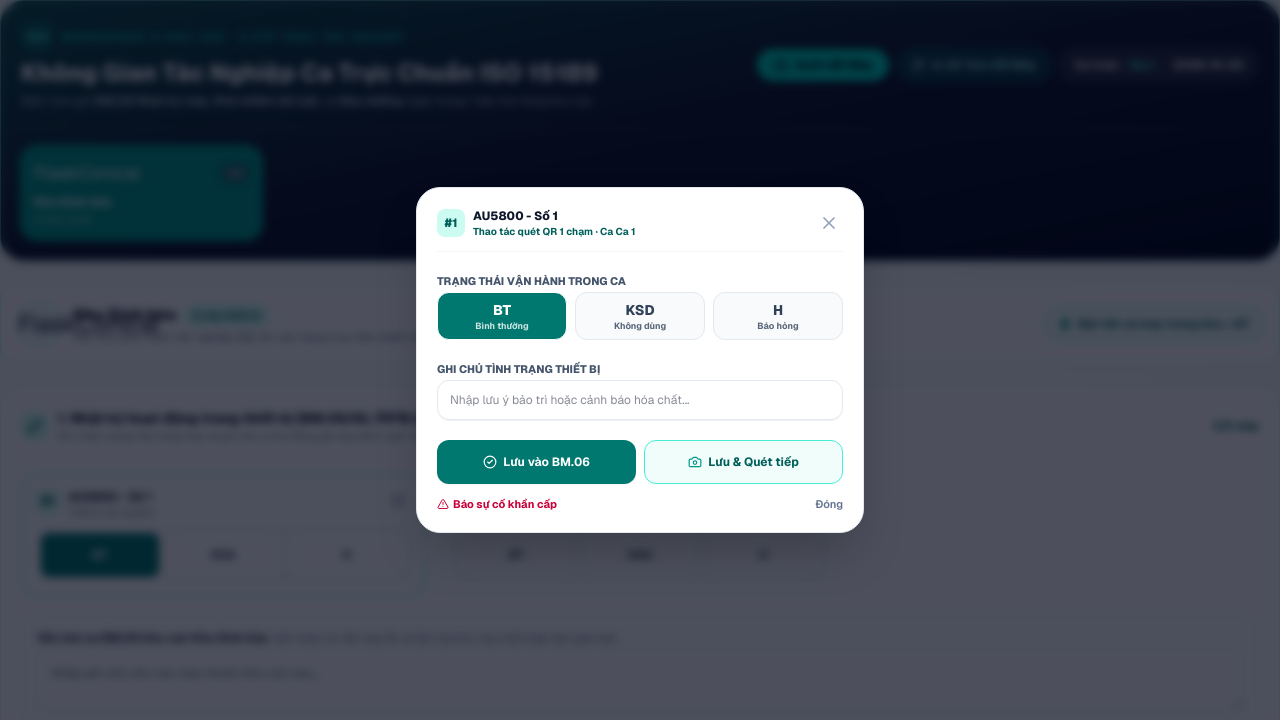
it: TASK 01: QR BM06 Concurrency, Offline Queue, and UI Truthfulness › PRIORITY 1: Does NOT treat HTTP 403/400 server rejection as network loss and does NOT queue into offline storage
Click the button "Lưu vào BM.06". click: (536, 462)
box: left=437, top=440, right=636, bottom=484
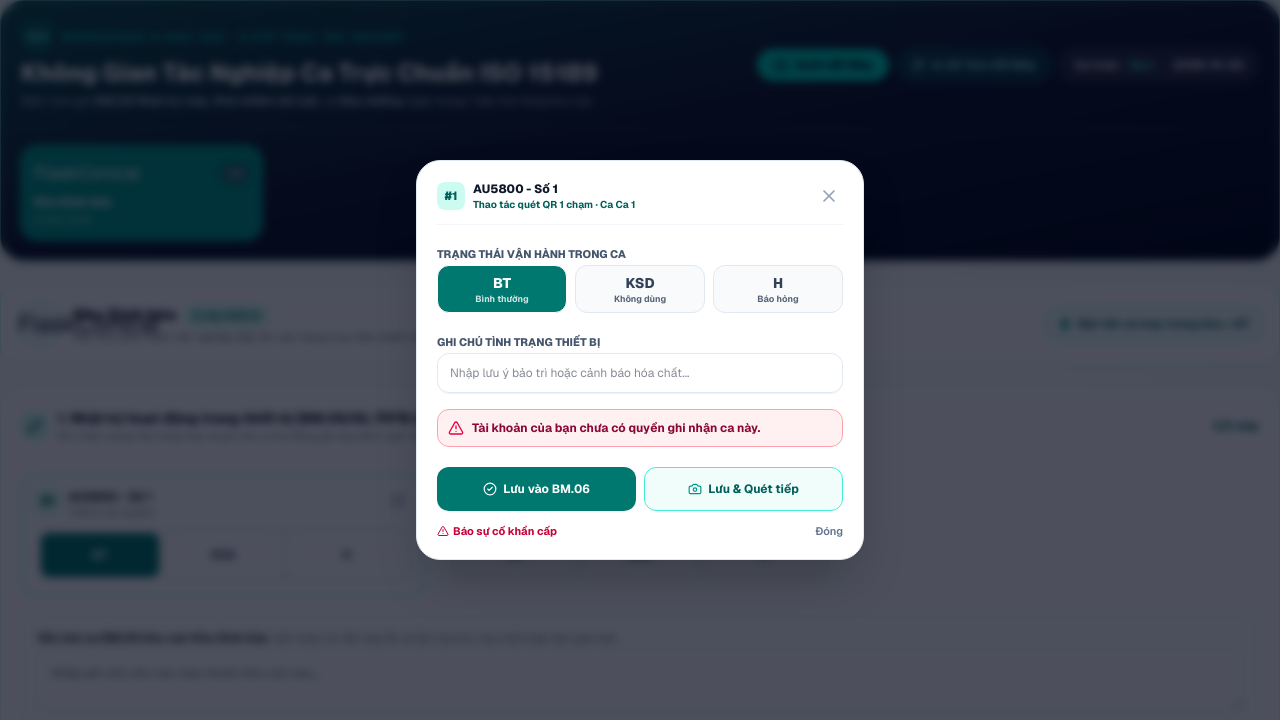
Now the text "Tài khoản của bạn chưa có quyền ghi nhận ca này." is shown, box left=472, top=420, right=760, bottom=436
